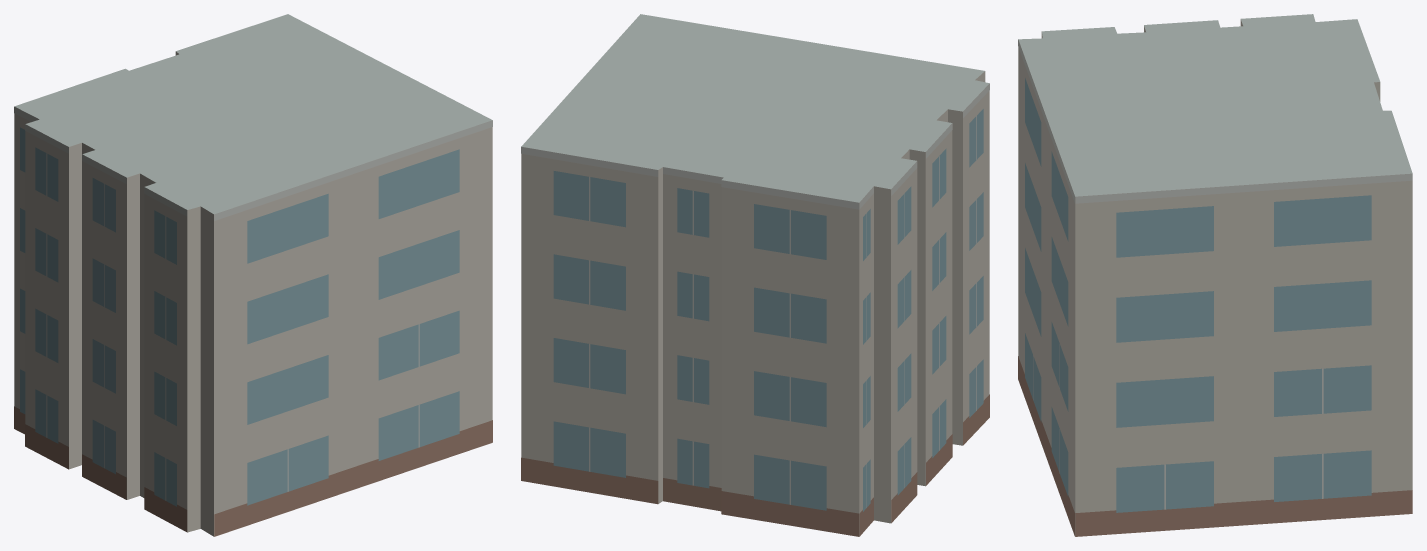
The model's file is survey-upis-32636724.glb.
3 views of the same model, side by side, from view 1: azimuth 30°, elevation 25°; view 2: azimuth 150°, elevation 25°; view 3: azimuth 270°, elevation 25° (orthographic). The views are drawn at different scales.
Visible parts, largest first — view 1: survey-upis-32636724.tmp; view 2: survey-upis-32636724.tmp; view 3: survey-upis-32636724.tmp.
Part boxes in pixels (<box>): survey-upis-32636724.tmp: <box>14,14,492,536</box>; survey-upis-32636724.tmp: <box>521,14,989,536</box>; survey-upis-32636724.tmp: <box>1018,14,1412,536</box>.
Bounding box in the file's own units: 13.48 × 11.7 × 12.3.
